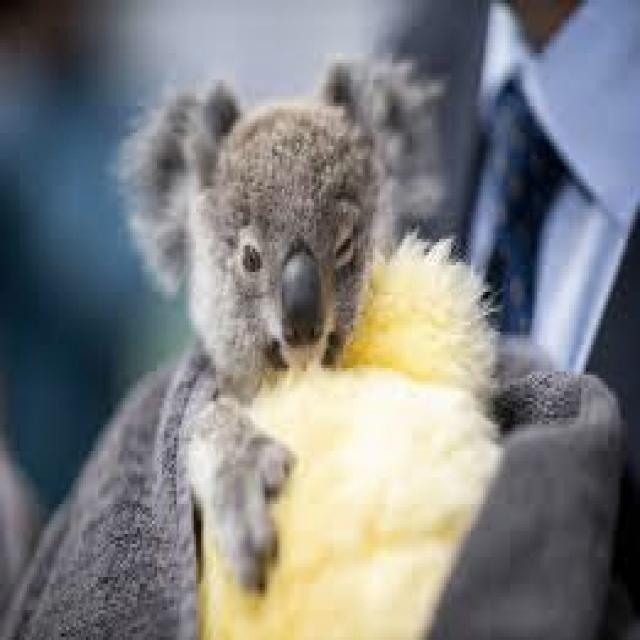koala: (123, 56, 444, 584)
